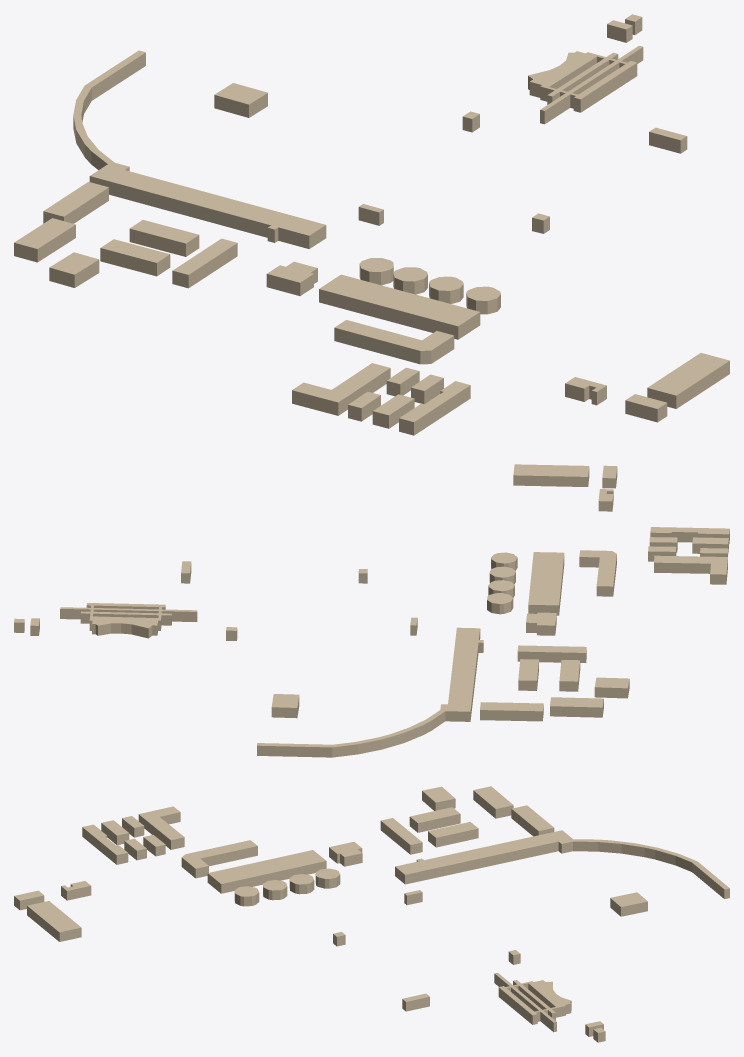
The model's file is -23_9-estimated-coarse.glb.
3 views of the same model, one above another, from view 1: azimuth 30°, elevation 25°; view 2: azimuth 150°, elevation 25°; view 3: azimuth 270°, elevation 25° (orthographic). The views are drawn at different scales.
Size of the model in its own units: 657 by 12 by 805.
